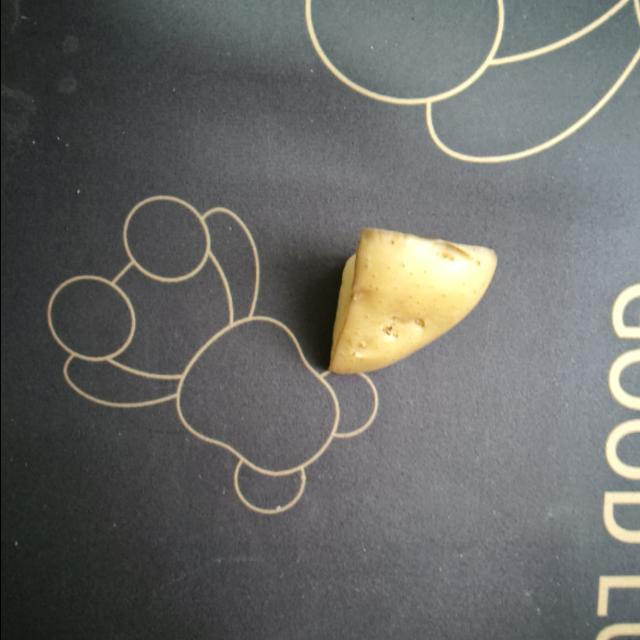-Kitchen waste - potato-: (326, 218, 502, 378)
